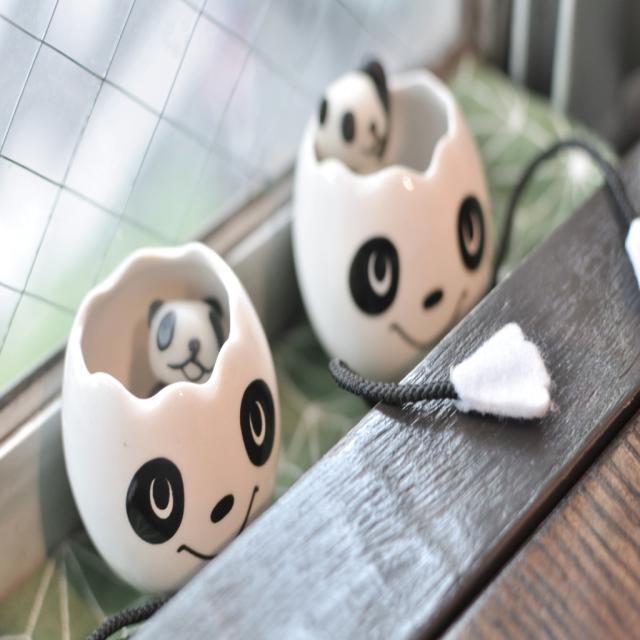panda: (312, 54, 413, 172), (146, 295, 230, 393)
